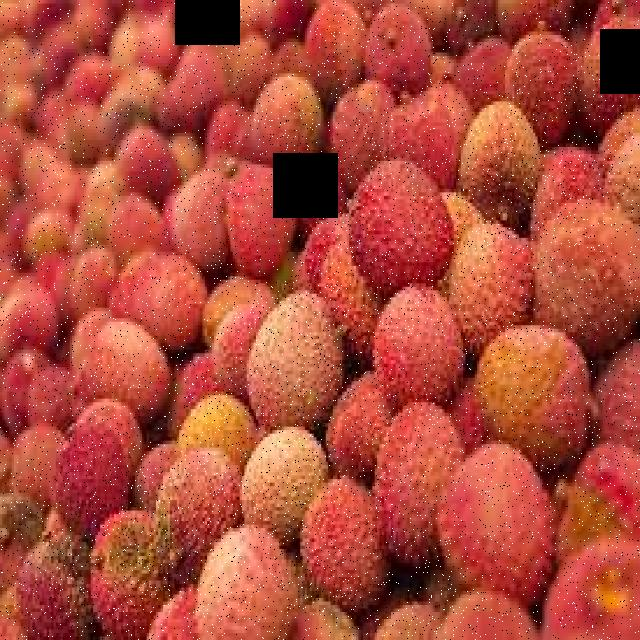lychee: (140, 142, 478, 620)
